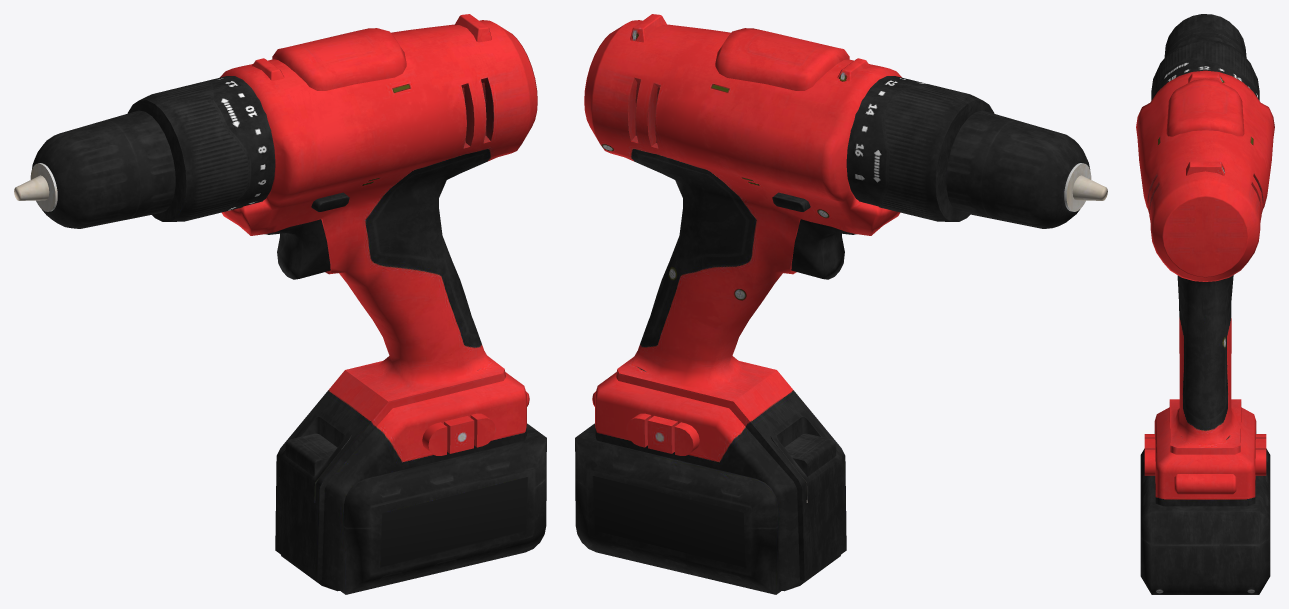
The model's file is CR_DrillMachine.fbx.
3 views of the same model, side by side, from view 1: azimuth 30°, elevation 25°; view 2: azimuth 150°, elevation 25°; view 3: azimuth 270°, elevation 25° (orthographic). The views are drawn at different scales.
Visible parts, largest first — view 1: DrillMachine; view 2: DrillMachine; view 3: DrillMachine.
Boxes of the visible parts, <box> form: DrillMachine: <box>14,14,546,594</box>; DrillMachine: <box>575,14,1107,594</box>; DrillMachine: <box>1136,14,1274,594</box>.
Size of the model in its own units: 17.84 by 18.04 by 5.24.
